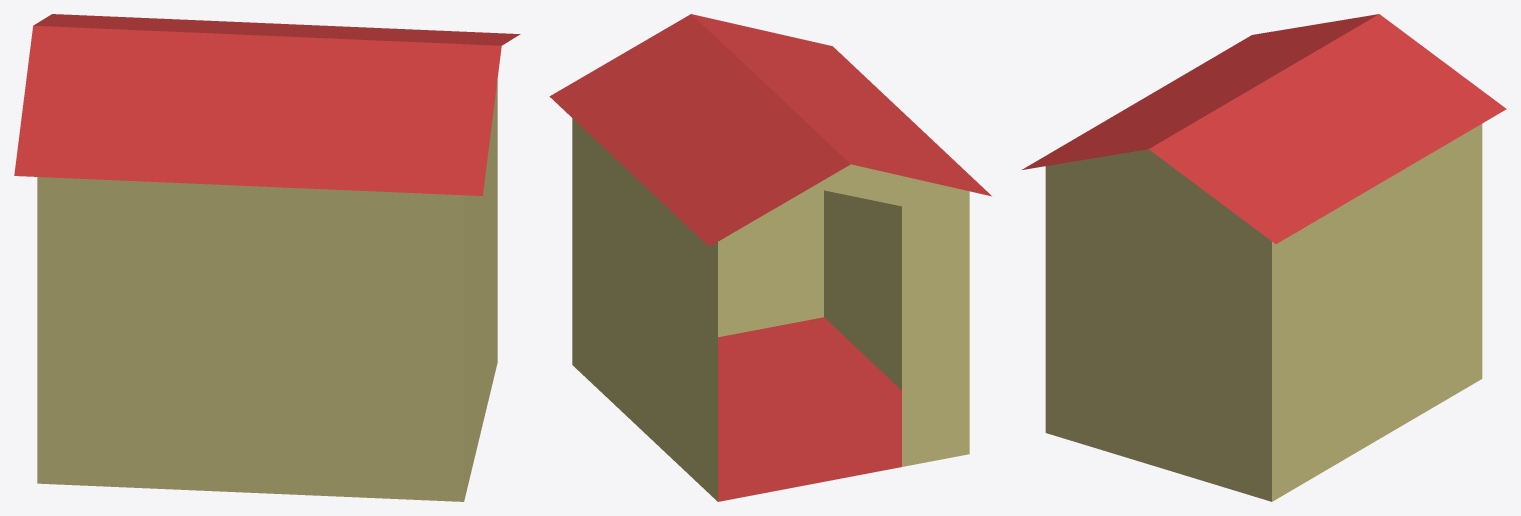
3 views of the same model, side by side, from view 1: azimuth 30°, elevation 25°; view 2: azimuth 150°, elevation 25°; view 3: azimuth 270°, elevation 25° (orthographic). The views are drawn at different scales.
Bounding box in the file's own units: 14.37 × 13.85 × 10.2.
